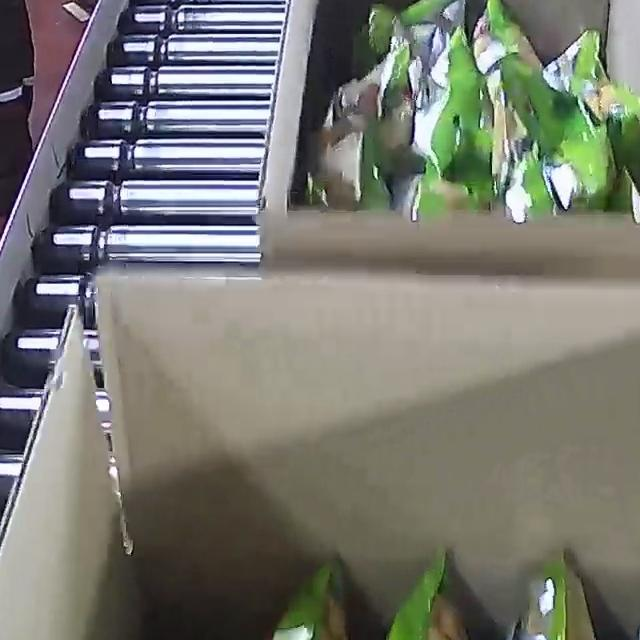yogurt: (145, 460, 640, 640), (304, 0, 640, 224)
